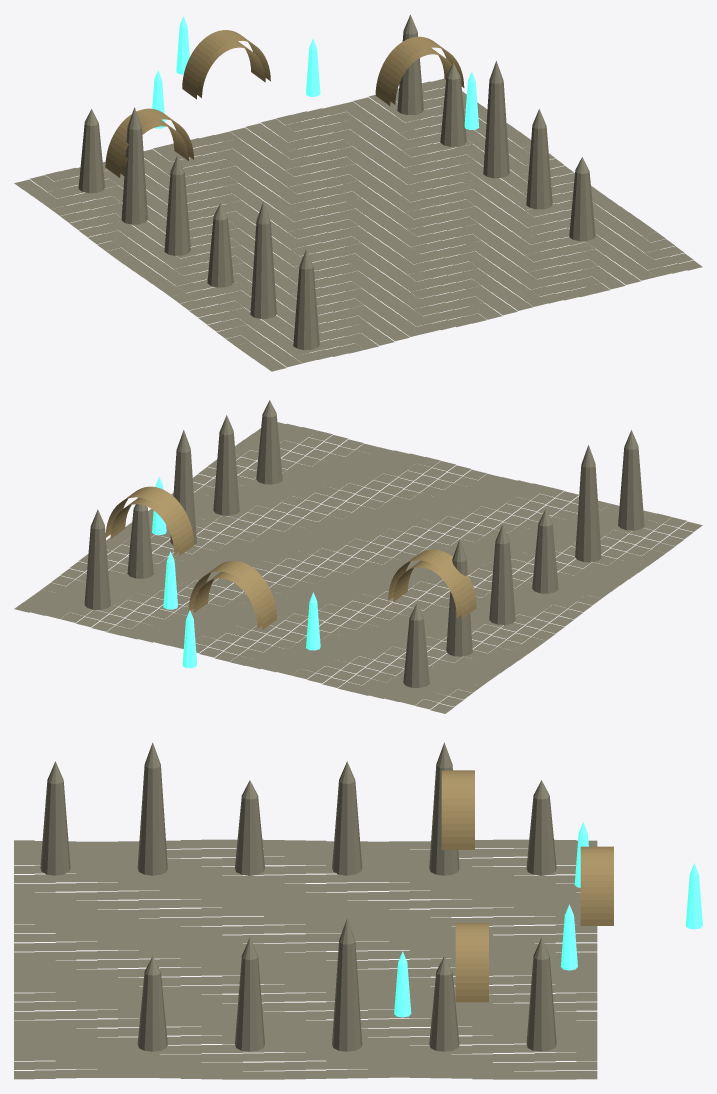
Rendered from temporal_battlefield.glb.
3 renders of one model, top to bottom at view 1: azimuth 30°, elevation 25°; view 2: azimuth 150°, elevation 25°; view 3: azimuth 270°, elevation 25°, orthographic. The views are drawn at different scales.
Parts seen in each view (by area): view 1: Worn ancient temple courtyard, Fractured polygonal temple columns, Oversized ancient time arches, Emerald prayer relics suspended in time; view 2: Worn ancient temple courtyard, Fractured polygonal temple columns, Oversized ancient time arches, Emerald prayer relics suspended in time; view 3: Worn ancient temple courtyard, Fractured polygonal temple columns, Oversized ancient time arches, Emerald prayer relics suspended in time.
Part boxes in pixels (x1,y1,x2,y2): Worn ancient temple courtyard: (14, 78, 702, 371); Fractured polygonal temple columns: (78, 14, 595, 350); Oversized ancient time arches: (105, 30, 464, 177); Emerald prayer relics suspended in time: (152, 16, 479, 129); Worn ancient temple courtyard: (14, 422, 702, 713); Fractured polygonal temple columns: (84, 400, 644, 687); Oversized ancient time arches: (105, 486, 476, 629); Emerald prayer relics suspended in time: (152, 477, 320, 668); Worn ancient temple courtyard: (14, 839, 597, 1079); Fractured polygonal temple columns: (40, 742, 556, 1051); Oversized ancient time arches: (441, 770, 613, 1002); Emerald prayer relics suspended in time: (394, 822, 702, 1017).
Size of the model in its own units: 40.59 by 10.23 by 49.61.
